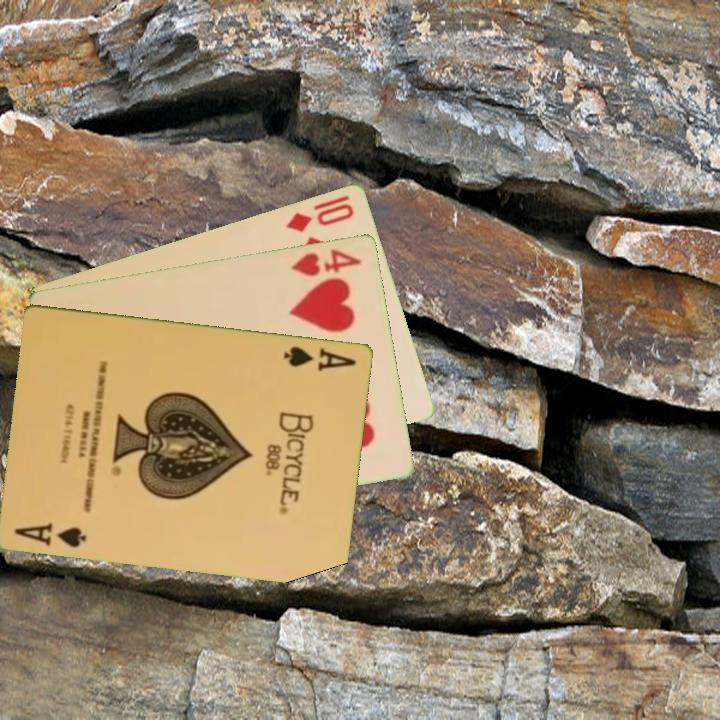10d: (282, 199, 357, 235)
4h: (287, 245, 365, 279)
As: (281, 342, 360, 374), (11, 519, 90, 550)
